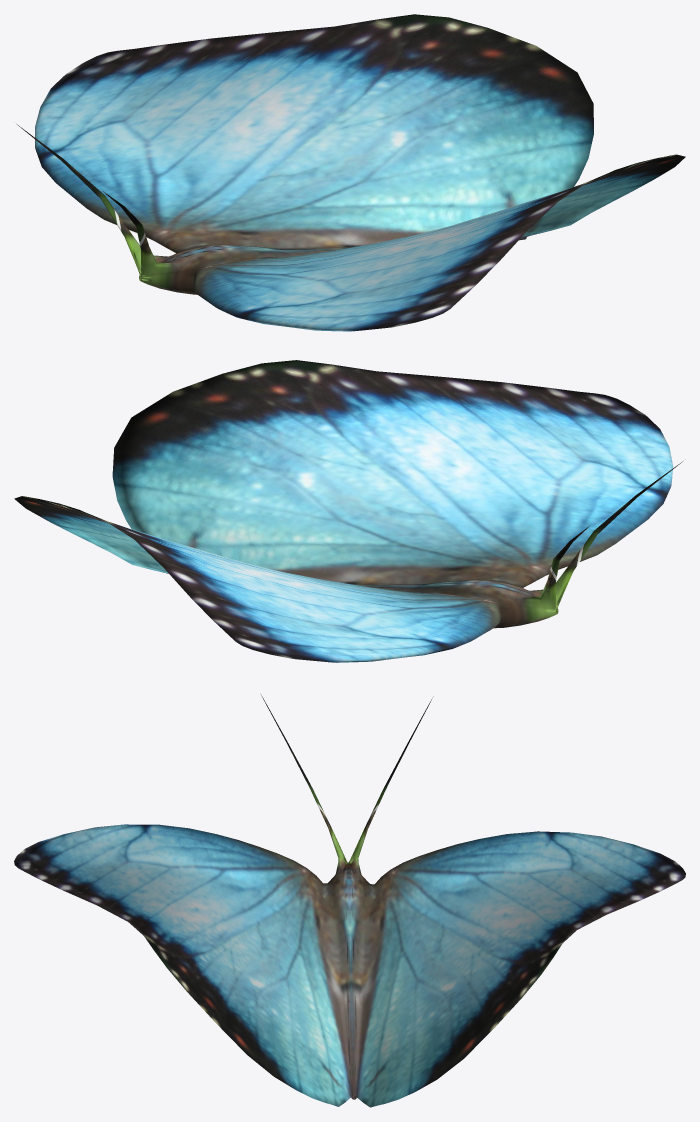
Rendered from mariposa.fbx.
The picture shows the model from 3 angles, top to bottom: view 1: azimuth 30°, elevation 25°; view 2: azimuth 150°, elevation 25°; view 3: azimuth 270°, elevation 25°; orthographic projection. The views are drawn at different scales.
Visible parts, largest first — view 1: Cylinder10; view 2: Cylinder10; view 3: Cylinder10.
Boxes of the visible parts, x1,y1,x2,y2 form: Cylinder10: [17, 14, 685, 331]; Cylinder10: [14, 360, 682, 662]; Cylinder10: [14, 695, 685, 1107].
Size of the model in its own units: 26.81 by 8.79 by 28.18.
Materials: 1 (1 with a texture image).
